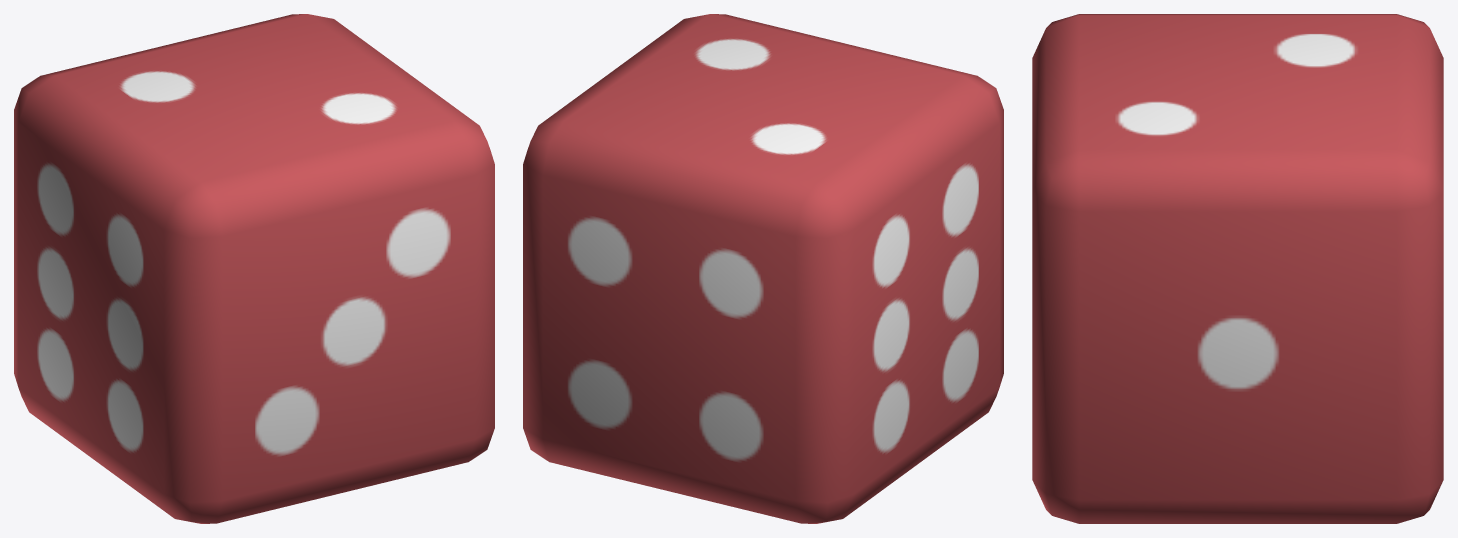
Rendered from dice.glb.
The picture shows the model from 3 angles, left to right: view 1: azimuth 30°, elevation 25°; view 2: azimuth 150°, elevation 25°; view 3: azimuth 270°, elevation 25°; orthographic projection. The views are drawn at different scales.
Visible parts, largest first — view 1: dice-red; view 2: dice-red; view 3: dice-red.
Part boxes in pixels (bbox=[...]): dice-red: bbox=[14, 14, 494, 523]; dice-red: bbox=[523, 14, 1003, 523]; dice-red: bbox=[1032, 14, 1443, 523].
Bounding box in the file's own units: 0.2282 × 0.2282 × 0.2282.
Materials: 1 (1 with a texture image).
